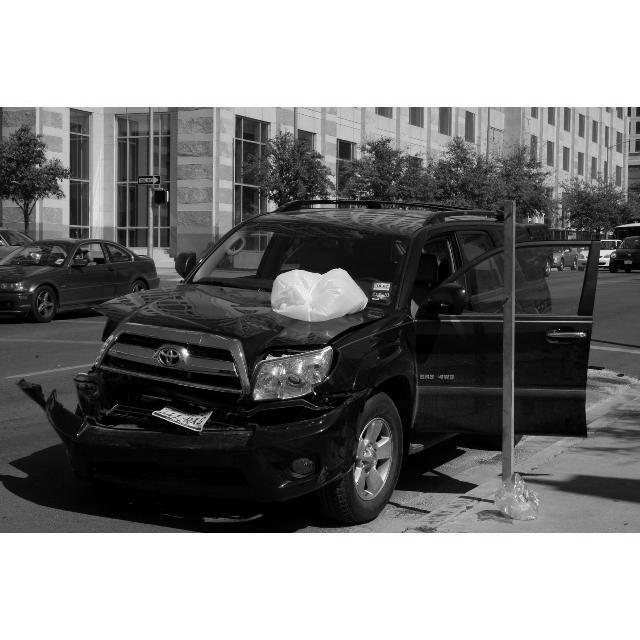Headlight-damage: (60, 317, 117, 371)
front-bumper-dent: (80, 395, 312, 485)
